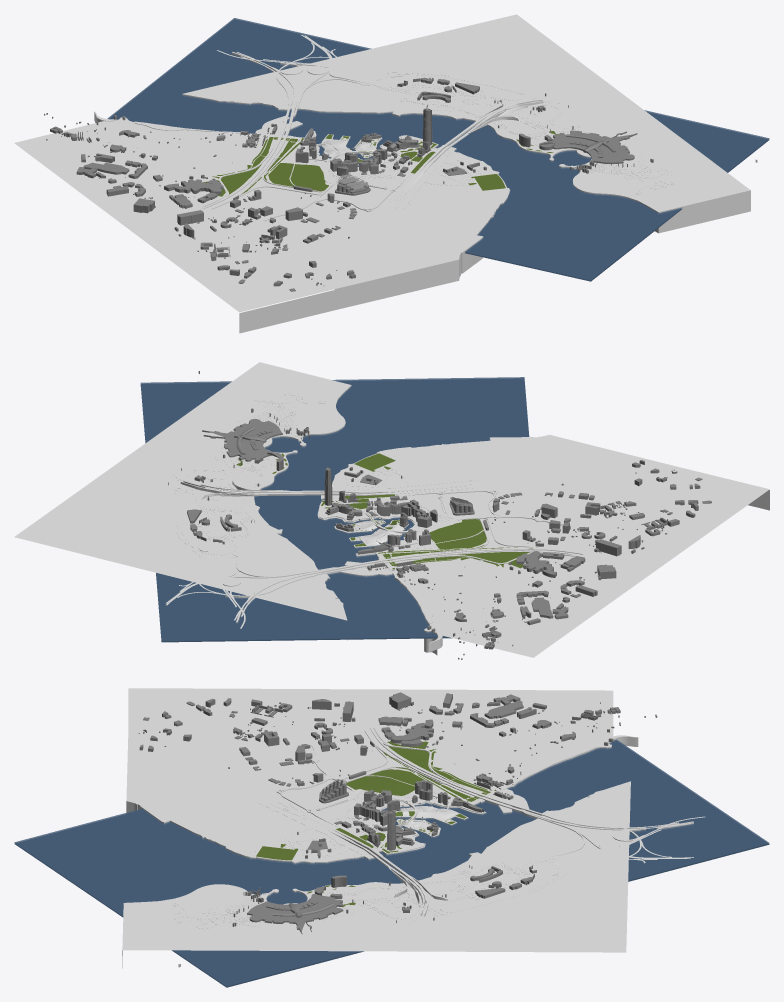
The model's file is Volna_by_Casco_mini_map.glb.
3 renders of one model, top to bottom at view 1: azimuth 30°, elevation 25°; view 2: azimuth 150°, elevation 25°; view 3: azimuth 270°, elevation 25°, orthographic. The views are drawn at different scales.
Visible parts, largest first — view 1: land, water, build, road, tree; view 2: land, water, build, road, tree; view 3: land, water, build, road, tree.
Boxes of the visible parts, x1=… form: land: x1=14, y1=14, x2=750, y2=333; water: x1=107, y1=18, x2=769, y2=281; build: x1=44, y1=77, x2=757, y2=291; road: x1=199, y1=35, x2=675, y2=221; tree: x1=202, y1=131, x2=559, y2=196; land: x1=14, y1=362, x2=769, y2=657; water: x1=140, y1=377, x2=529, y2=642; build: x1=168, y1=371, x2=711, y2=659; road: x1=165, y1=393, x2=583, y2=628; tree: x1=236, y1=453, x2=532, y2=568; land: x1=122, y1=688, x2=638, y2=968; water: x1=14, y1=739, x2=769, y2=987; build: x1=138, y1=692, x2=657, y2=967; road: x1=172, y1=724, x2=705, y2=932; tree: x1=256, y1=741, x2=496, y2=907.
Bounding box in the file's own units: 4008 × 374 × 4307.
Materials: 6 (1 with a texture image).
